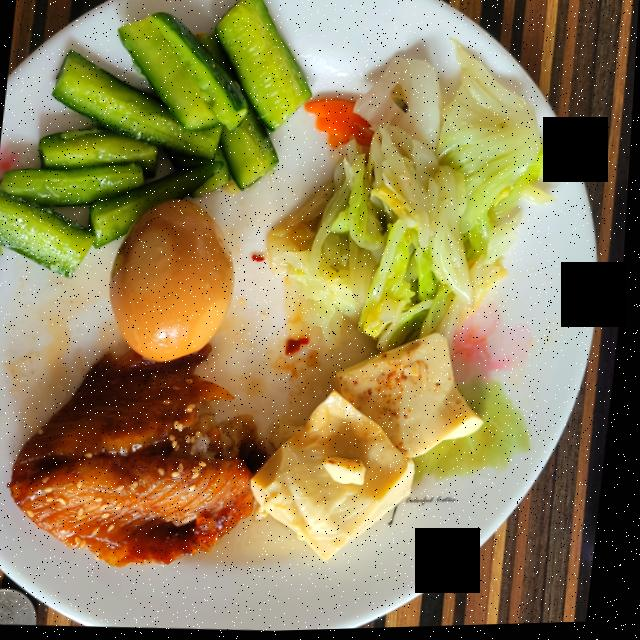Kabayaki sea bream fillet: (15, 347, 271, 567)
cabbage: (271, 46, 559, 353)
coin: (0, 589, 45, 626)
cucumber: (0, 0, 312, 278)
soy egg: (113, 201, 238, 363)
